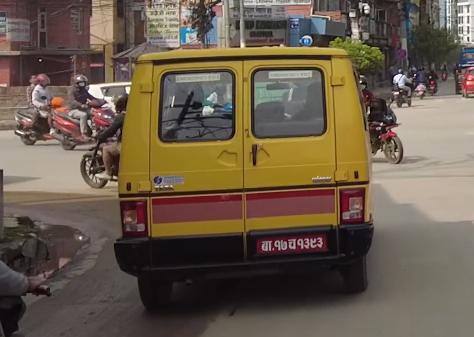bike: (366, 95, 406, 167)
school_bus: (111, 40, 377, 315)
